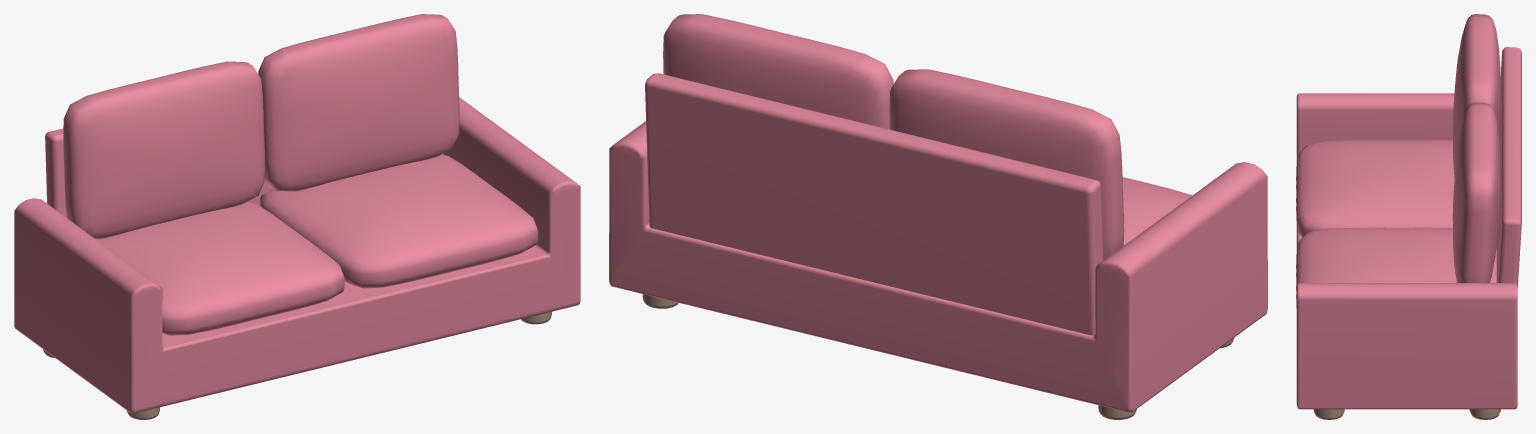
File: Chair_Couch_4.glb
3 views of the same model, side by side, from view 1: azimuth 30°, elevation 25°; view 2: azimuth 150°, elevation 25°; view 3: azimuth 270°, elevation 25° (orthographic). The views are drawn at different scales.
Visible parts, largest first — view 1: Couch_4; view 2: Couch_4; view 3: Couch_4.
Part boxes in pixels (x1=…): Couch_4: x1=14, y1=14, x2=580, y2=419; Couch_4: x1=609, y1=14, x2=1267, y2=419; Couch_4: x1=1296, y1=14, x2=1521, y2=419.
Size of the model in its own units: 2.6 by 1.39 by 1.21.
1 material, 1 textured.
